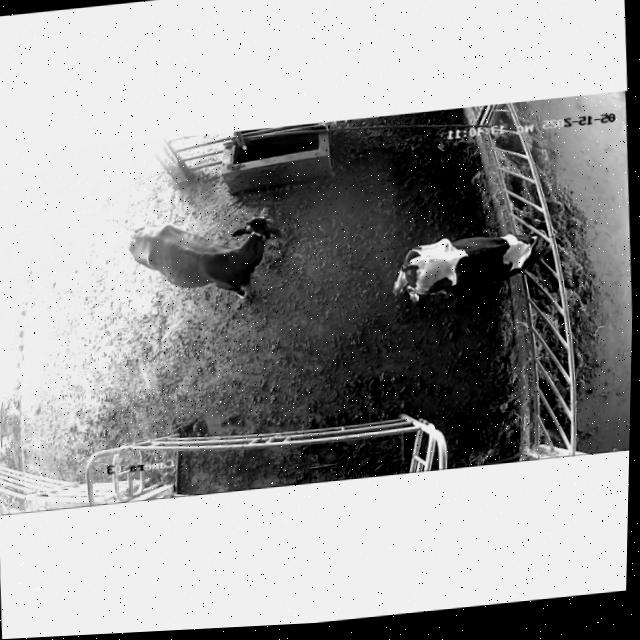stand: (116, 192, 292, 320)
